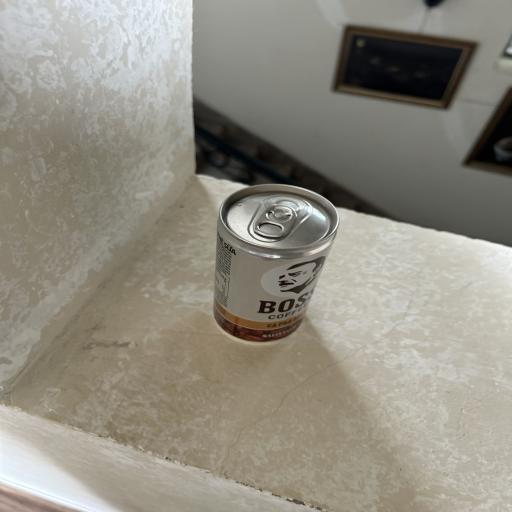boss_coffee: (208, 180, 341, 348)
